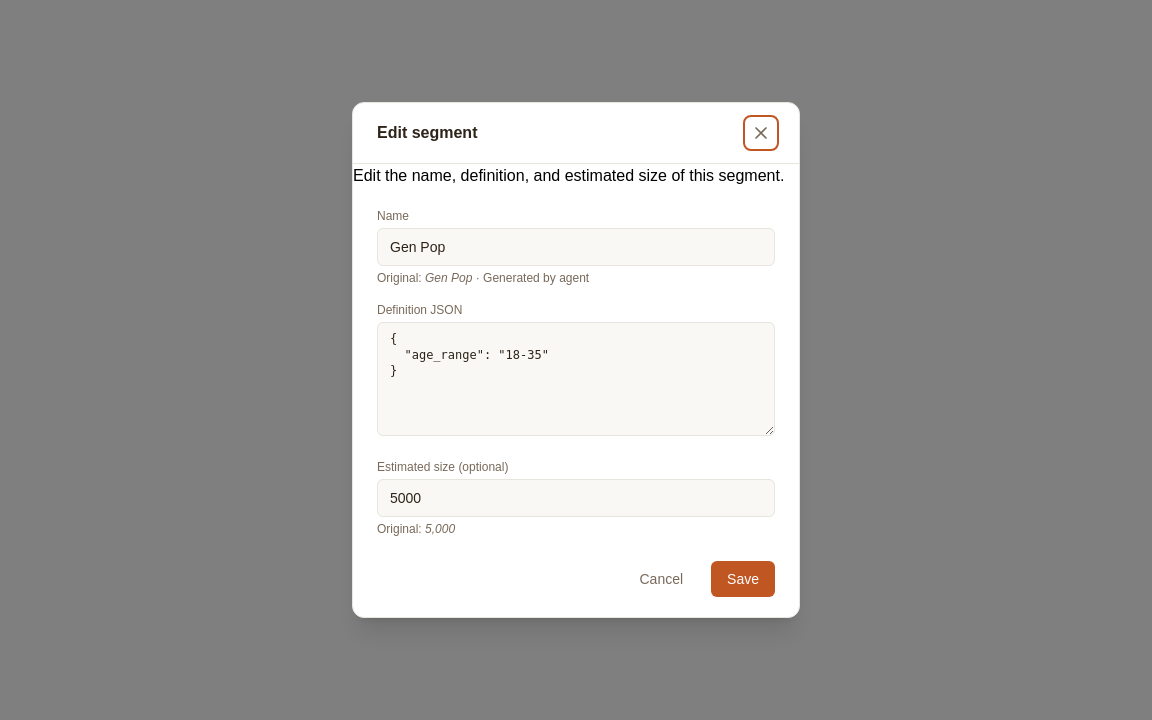
Test case: SegmentEditModal › form validation › shows error when name is empty on submit
Clear the field labelled "Name" at (576, 247), box [377,228,775,266]
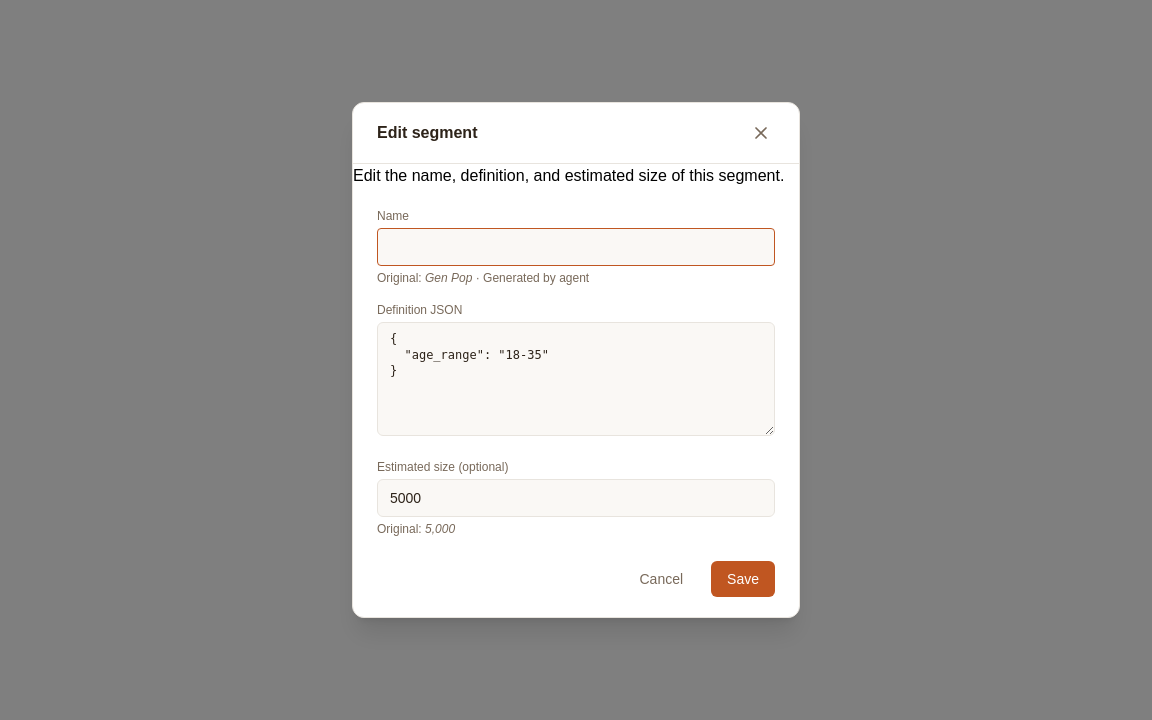
Click the button "Save" at (743, 579), box [711,561,775,597]
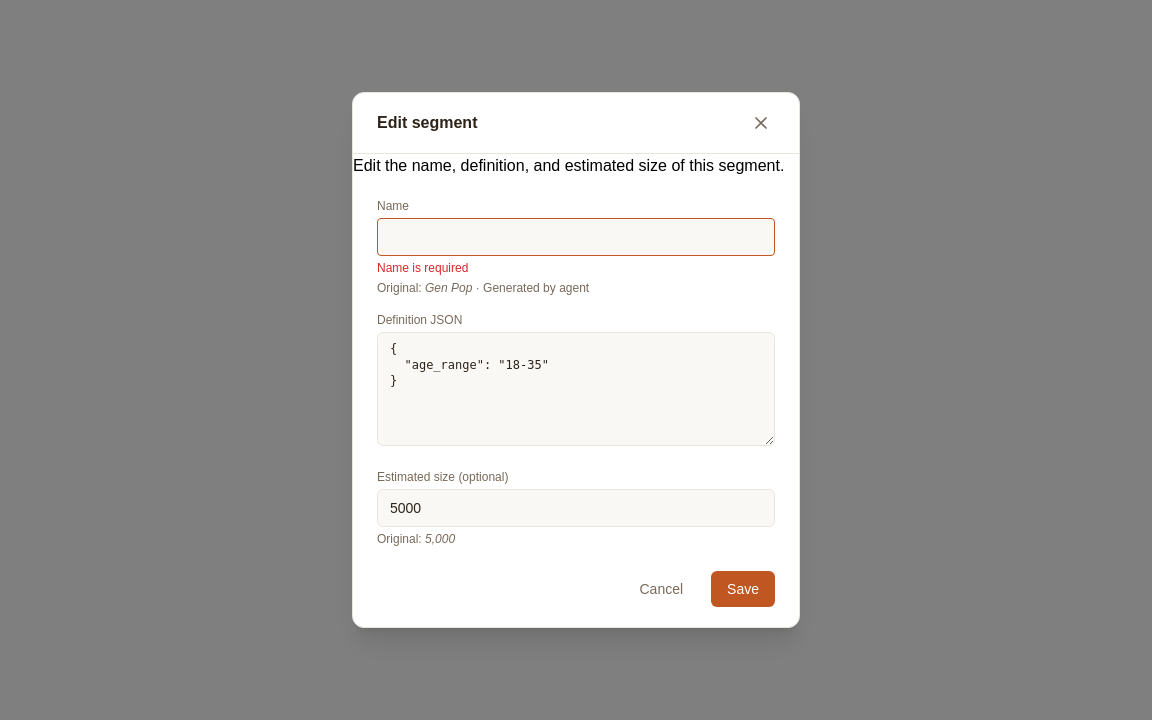
expect the message reads "Name is required": met, box [377,261,468,275]
